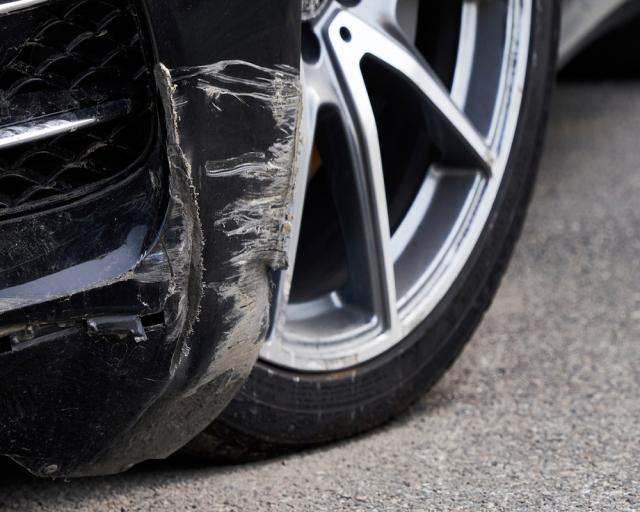scratch: (0, 56, 304, 398)
